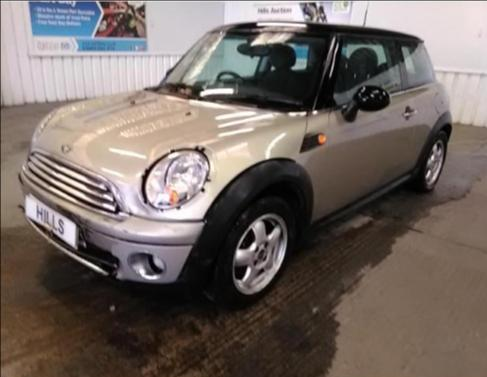Broken part: (13, 196, 120, 282), (16, 169, 27, 189)
Dent: (112, 181, 151, 215)
Missing part: (137, 142, 218, 213), (144, 150, 208, 209)
